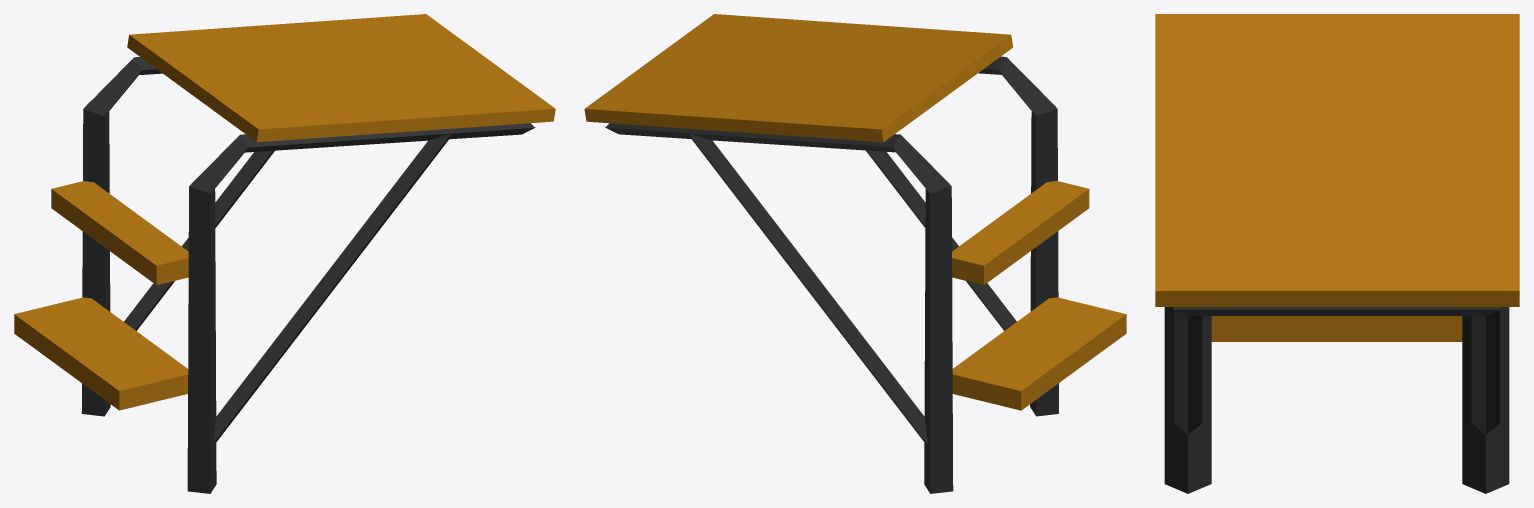
File: cautruot.fbx
3 renders of one model, left to right at view 1: azimuth 30°, elevation 25°; view 2: azimuth 150°, elevation 25°; view 3: azimuth 270°, elevation 25°, orthographic. The views are drawn at different scales.
Visible parts, largest first — view 1: cautruot; view 2: cautruot; view 3: cautruot.
Part boxes in pixels (bbox=[...]): cautruot: bbox=[14, 14, 555, 493]; cautruot: bbox=[584, 14, 1126, 493]; cautruot: bbox=[1155, 14, 1519, 493].
Size of the model in its own units: 339 by 271 by 179.
